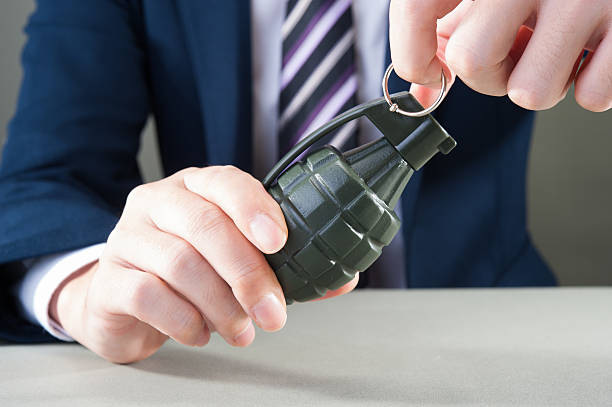e1: (237, 55, 457, 304)
